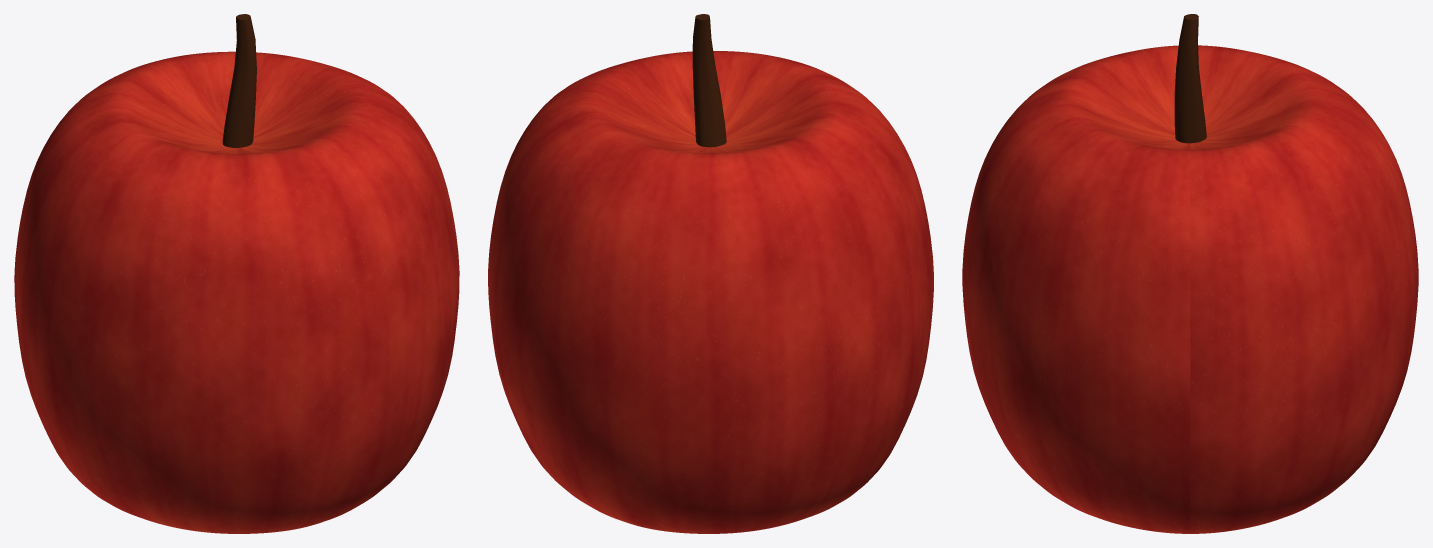
The model's file is GameApple_Full_90x90x103mm.fbx.
The picture shows the model from 3 angles, left to right: view 1: azimuth 30°, elevation 25°; view 2: azimuth 150°, elevation 25°; view 3: azimuth 270°, elevation 25°; orthographic projection.
Parts seen in each view (by area): view 1: AppleFull_Fruit, Apple_Stem; view 2: AppleFull_Fruit, Apple_Stem; view 3: AppleFull_Fruit, Apple_Stem.
Boxes of the visible parts, box(x1,y1,x2,y2) form: AppleFull_Fruit: box(14, 51, 459, 533); Apple_Stem: box(222, 14, 256, 147); AppleFull_Fruit: box(488, 51, 933, 533); Apple_Stem: box(692, 14, 726, 147); AppleFull_Fruit: box(962, 45, 1418, 533); Apple_Stem: box(1174, 14, 1206, 143).
Size of the model in its own units: 0.09 by 0.103 by 0.09.
2 materials, 1 textured.
